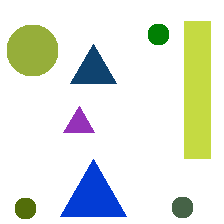circle: (7, 25, 57, 75), (148, 24, 168, 44), (172, 197, 192, 217), (15, 198, 35, 218)
rectangle: (184, 21, 210, 158)
triangle: (60, 159, 126, 216), (70, 44, 116, 83), (63, 106, 94, 132)
